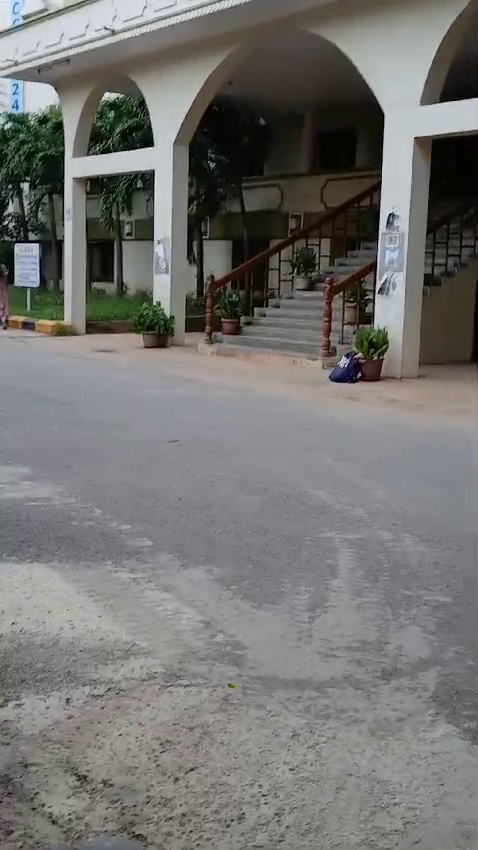bag: (327, 347, 360, 391)
